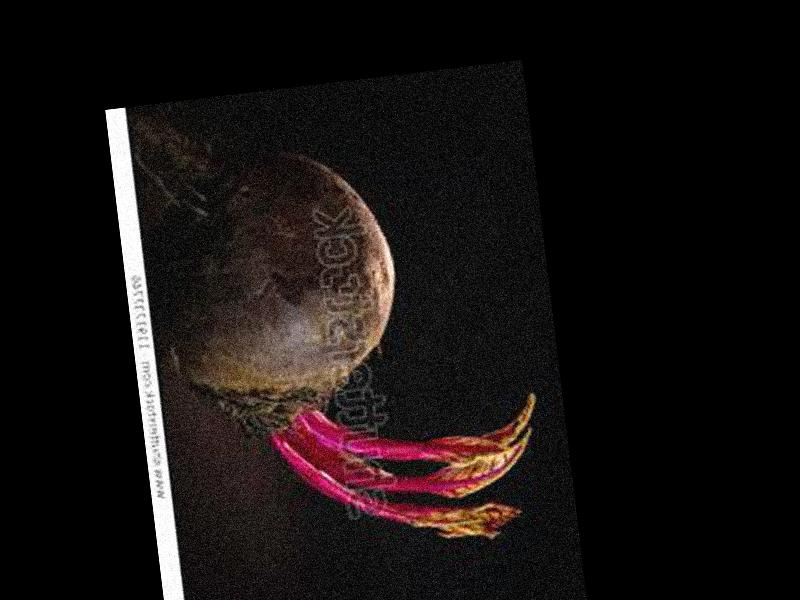Beet: (126, 62, 551, 573)
